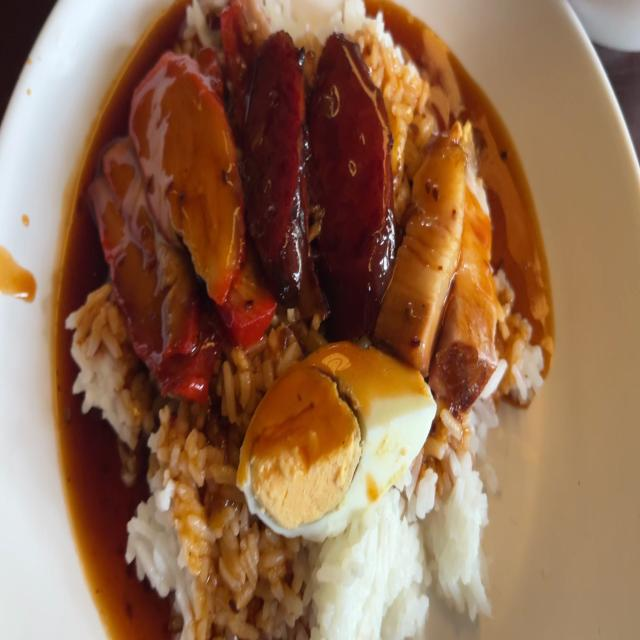01boiled_egg: (239, 40, 381, 313), (246, 356, 439, 523)
01crispy_pork: (391, 133, 510, 364)
01red_pork: (107, 58, 231, 366)
01red_pork_and_crispy_pork: (62, 4, 527, 640)
01rice: (315, 469, 489, 634), (128, 416, 253, 622), (66, 299, 137, 437), (248, 0, 369, 41)
